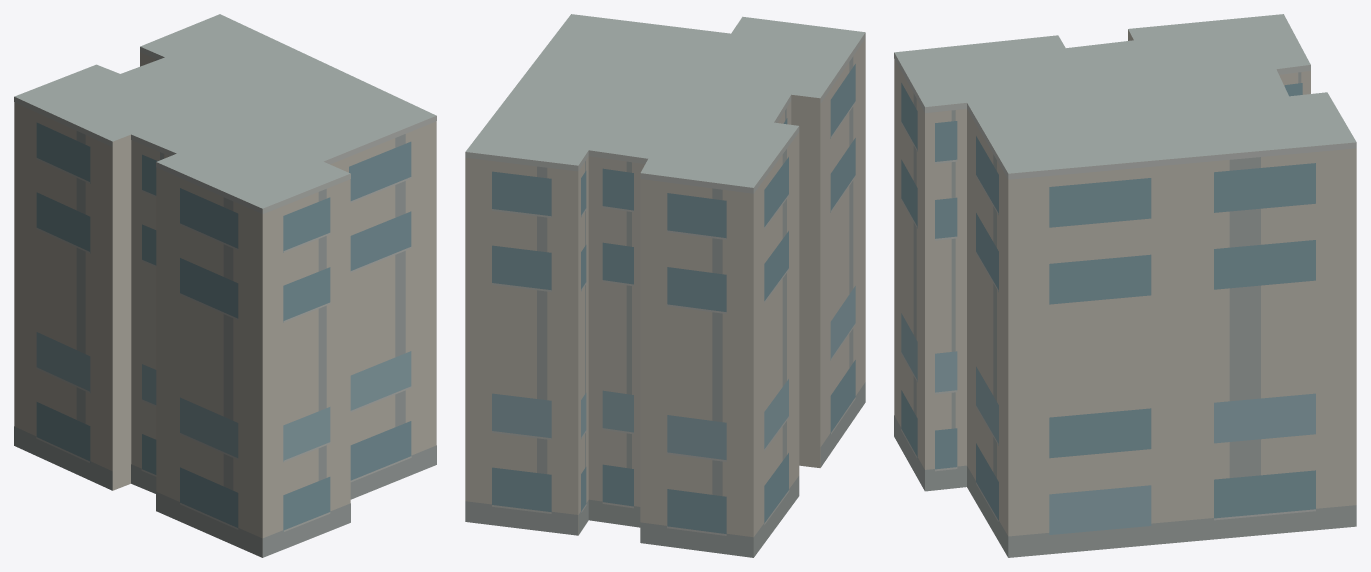
The model's file is survey-upis-32818944.glb.
The picture shows the model from 3 angles, left to right: view 1: azimuth 30°, elevation 25°; view 2: azimuth 150°, elevation 25°; view 3: azimuth 270°, elevation 25°; orthographic projection. The views are drawn at different scales.
Parts seen in each view (by area): view 1: survey-upis-32818944.tmp; view 2: survey-upis-32818944.tmp; view 3: survey-upis-32818944.tmp.
Boxes of the visible parts, <box> form: survey-upis-32818944.tmp: <box>14,14,436,557</box>; survey-upis-32818944.tmp: <box>465,14,865,557</box>; survey-upis-32818944.tmp: <box>894,14,1356,557</box>.
Bounding box in the file's own units: 13.74 × 15.4 × 16.81.
